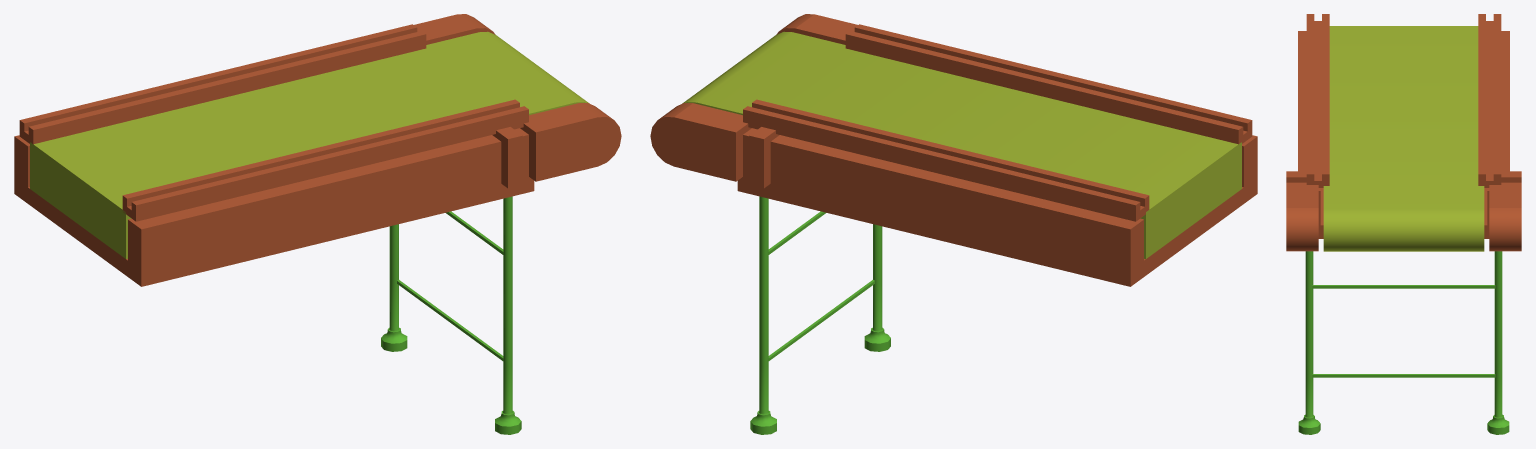
The model's file is Conveyor_low.fbx.
3 renders of one model, left to right at view 1: azimuth 30°, elevation 25°; view 2: azimuth 150°, elevation 25°; view 3: azimuth 270°, elevation 25°, orthographic. The views are drawn at different scales.
Visible parts, largest first — view 1: Conveyor_Side_low, Conveyor_Main_low, Conveyor_Support_low; view 2: Conveyor_Side_low, Conveyor_Main_low, Conveyor_Support_low; view 3: Conveyor_Main_low, Conveyor_Side_low, Conveyor_Support_low.
Part boxes in pixels (<box>): Conveyor_Side_low: <box>14,14,621,286</box>; Conveyor_Main_low: <box>30,31,589,258</box>; Conveyor_Support_low: <box>381,196,521,434</box>; Conveyor_Side_low: <box>650,14,1257,286</box>; Conveyor_Main_low: <box>682,31,1241,258</box>; Conveyor_Support_low: <box>750,196,890,434</box>; Conveyor_Main_low: <box>1323,26,1484,251</box>; Conveyor_Side_low: <box>1286,14,1521,251</box>; Conveyor_Support_low: <box>1298,251,1509,434</box>.
Bounding box in the file's own units: 120 × 76.89 × 62.01.
